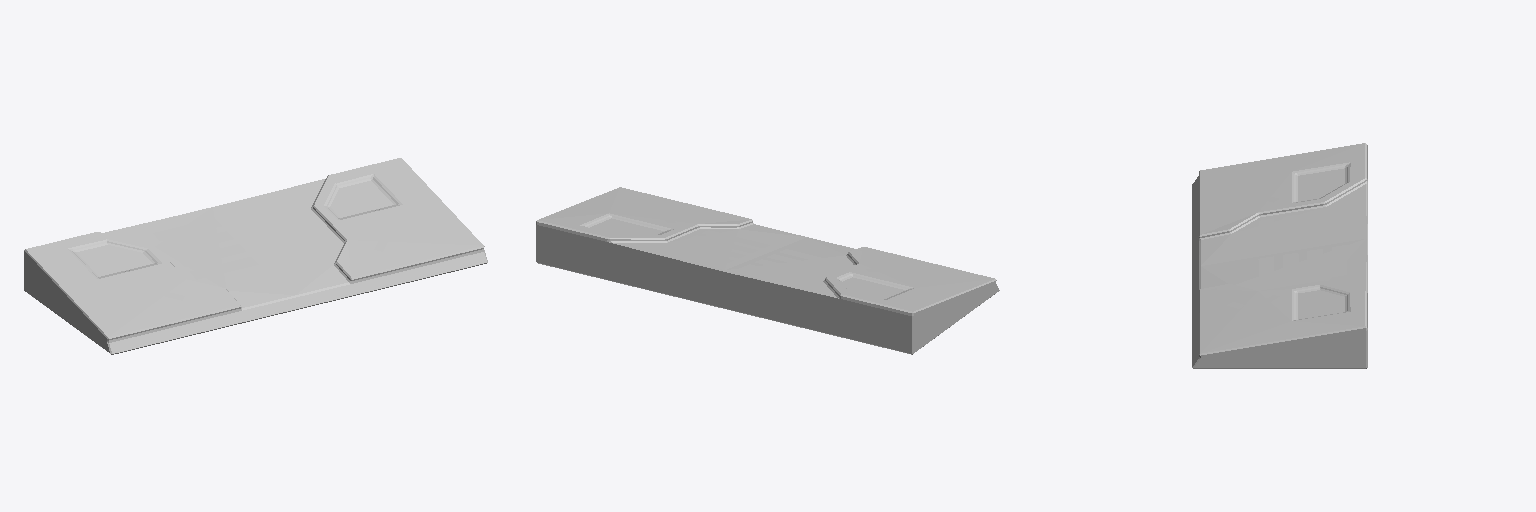
Rendered from Ramp.obj.
The picture shows the model from 3 angles: view 1: azimuth 30°, elevation 25°; view 2: azimuth 150°, elevation 25°; view 3: azimuth 270°, elevation 25°; orthographic projection.
Visible parts, largest first — view 1: Ramp_Plane.004; view 2: Ramp_Plane.004; view 3: Ramp_Plane.004.
Part boxes in pixels (x1,y1,x2,y2): Ramp_Plane.004: (24,158,487,354); Ramp_Plane.004: (536,187,999,354); Ramp_Plane.004: (1192,143,1367,368).
Bounding box in the file's own units: 18.3 × 1.98 × 7.38.